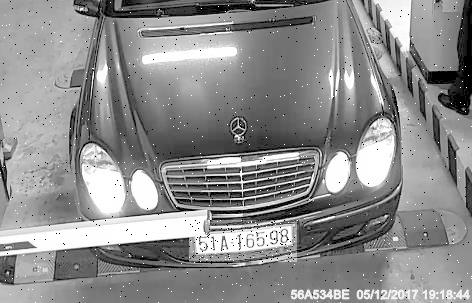License-plate: (191, 221, 300, 263)
